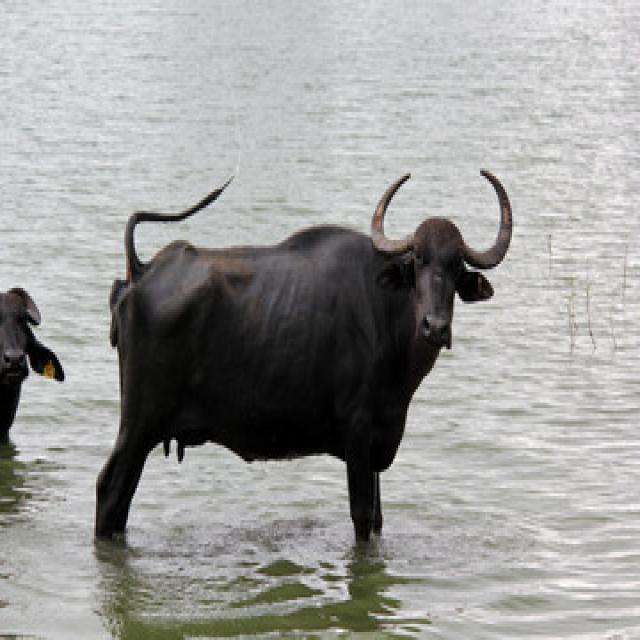Buffalo: (92, 162, 510, 542)
